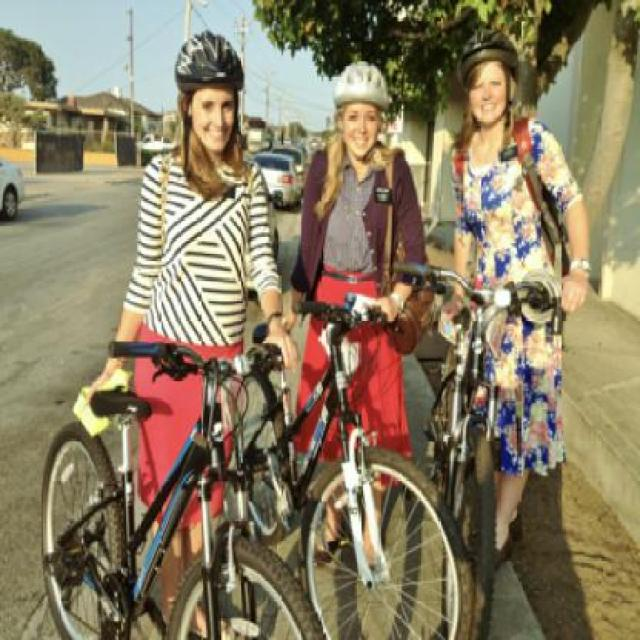With Helmet: (169, 26, 249, 103), (328, 55, 392, 124), (451, 28, 523, 89)
